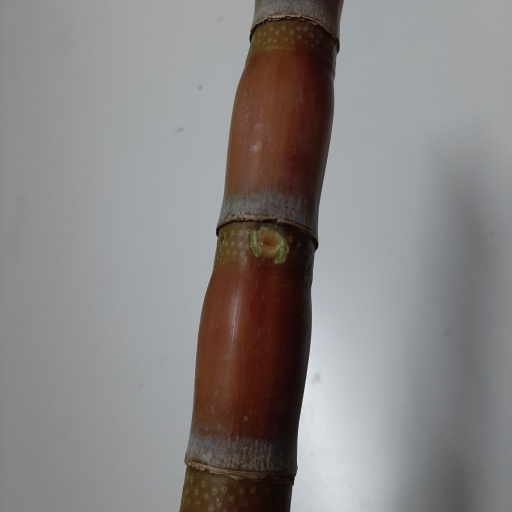Damage_Bud: (251, 227, 286, 256)
